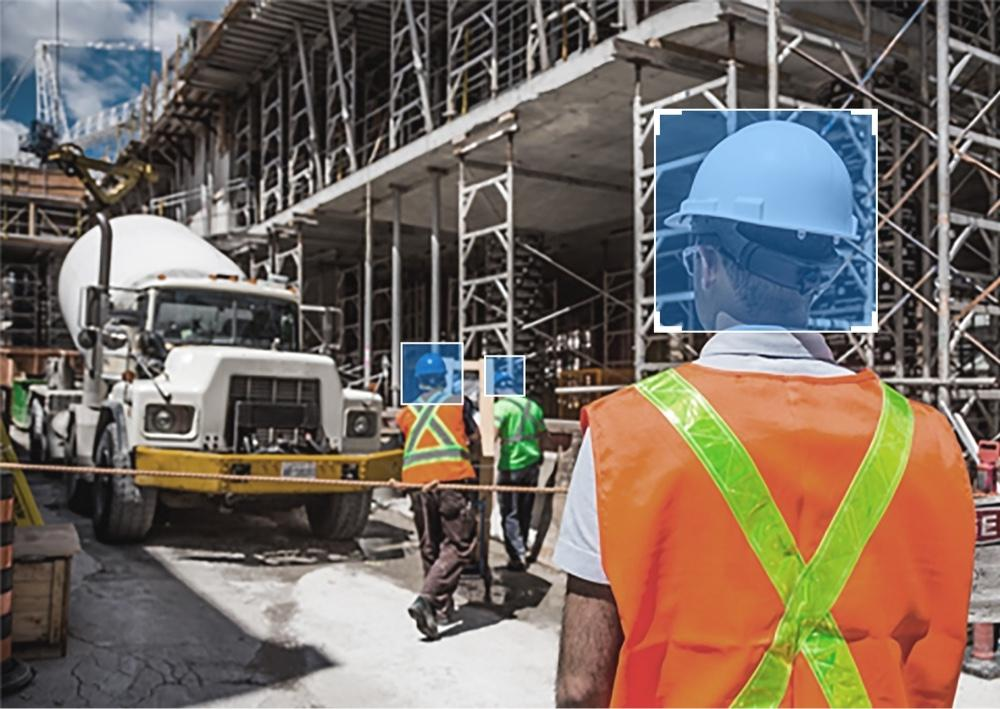helmet: (678, 122, 870, 245), (412, 354, 451, 385), (491, 364, 517, 390)
wear: (597, 369, 959, 709), (398, 393, 473, 485), (491, 398, 542, 466)
